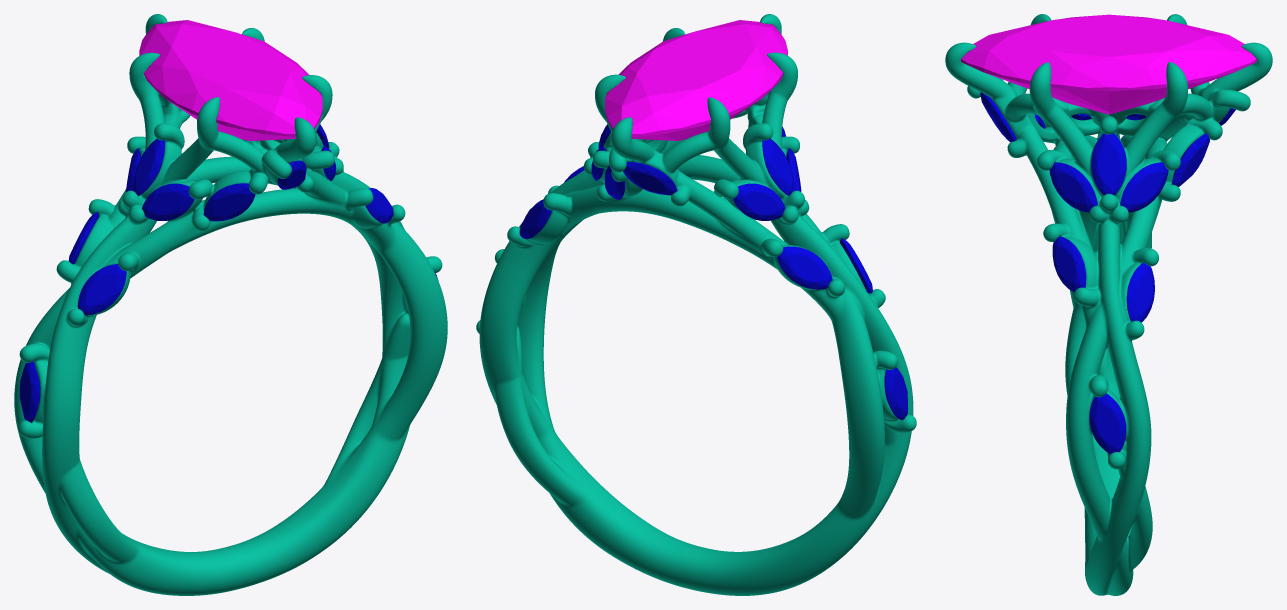
Rendered from MQ_2CT_Silver.glb.
3 views of the same model, side by side, from view 1: azimuth 30°, elevation 25°; view 2: azimuth 150°, elevation 25°; view 3: azimuth 270°, elevation 25° (orthographic).
Visible parts, largest first — view 1: Metal 01, CS_Diamond_Marquise, Diamond_Marquise_side.014, Diamond_Marquise_side.008, Diamond_Marquise_side.003, Diamond_Marquise_side.007, Diamond_Marquise_side.015, Diamond_Marquise_side.010; view 2: Metal 01, CS_Diamond_Marquise, Diamond_Marquise_side.013, Diamond_Marquise_side.009, Diamond_Marquise_side, Diamond_Marquise_side.007, Diamond_Marquise_side.015, Diamond_Marquise_side.011; view 3: Metal 01, CS_Diamond_Marquise, Diamond_Marquise_side.004, Diamond_Marquise_side.012, Diamond_Marquise_side.006, Diamond_Marquise_side.005, Diamond_Marquise_side.010, Diamond_Marquise_side.011, Diamond_Marquise_side.001, Diamond_Marquise_side.002.
Part boxes in pixels (x1,y1,x2,y2): Metal 01: (14, 14, 447, 595); CS_Diamond_Marquise: (139, 20, 322, 140); Diamond_Marquise_side.014: (77, 264, 126, 315); Diamond_Marquise_side.008: (142, 183, 194, 220); Diamond_Marquise_side.003: (203, 183, 255, 221); Diamond_Marquise_side.007: (133, 139, 164, 196); Diamond_Marquise_side.015: (19, 361, 40, 422); Diamond_Marquise_side.010: (365, 188, 393, 223); Metal 01: (476, 14, 916, 595); CS_Diamond_Marquise: (605, 20, 787, 140); Diamond_Marquise_side.013: (777, 246, 832, 289); Diamond_Marquise_side.009: (733, 183, 785, 220); Diamond_Marquise_side: (623, 162, 677, 195); Diamond_Marquise_side.007: (762, 138, 794, 195); Diamond_Marquise_side.015: (884, 367, 907, 420); Diamond_Marquise_side.011: (519, 199, 552, 238); Metal 01: (945, 14, 1272, 595); CS_Diamond_Marquise: (961, 14, 1256, 114); Diamond_Marquise_side.004: (1091, 133, 1126, 195); Diamond_Marquise_side.012: (1089, 393, 1126, 454); Diamond_Marquise_side.006: (1120, 162, 1168, 212); Diamond_Marquise_side.005: (1049, 162, 1097, 212); Diamond_Marquise_side.010: (1052, 236, 1086, 291); Diamond_Marquise_side.011: (1126, 262, 1154, 322); Diamond_Marquise_side.001: (1171, 133, 1209, 186); Diamond_Marquise_side.002: (980, 92, 1016, 142).
Size of the model in its own units: 21.31 by 24.93 by 13.77.
